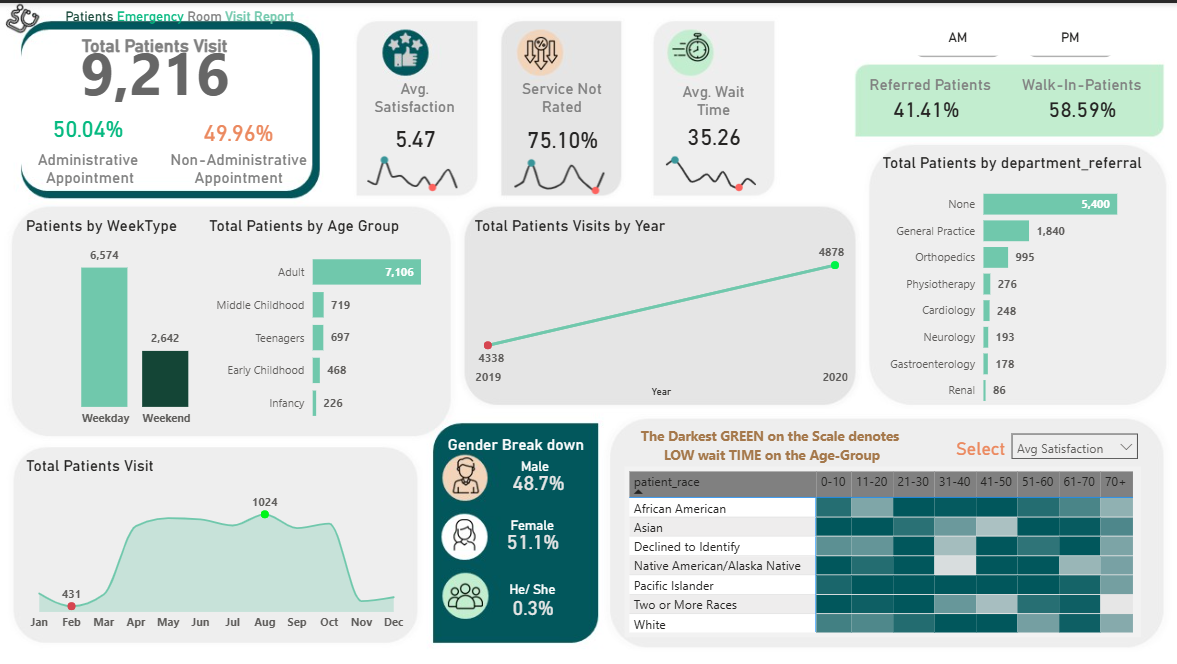

This screenshot's page, from the dashboard's own definition file:
{"tool":"powerbi","page":{"name":"Page 1","canvas":[1280,720],"ordinal":0},"visuals":[{"type":"card","fields":{"Values":["Calculation.Total Patients"]},"box":[73.3,28.9,191.1,86.7],"z":0},{"type":"card","fields":{"Values":["Calculation.% Adminstrative Schedule"]},"box":[48,115,94,40],"z":1000},{"type":"card","fields":{"Values":["Calculation.% None - Adminstrative Schedule"]},"box":[202,115,115,48],"z":2000},{"type":"pivotTable","fields":{"Values":["Calculation.Average Satisfaction Score"],"Rows":["Patients Dataset.patient_race"],"Columns":["Patients Dataset.Age Buckets"]},"box":[677.8,503.3,560,185.6],"z":3000},{"type":"slicer","fields":{"Values":["Parameter.Parameter"]},"box":[1088.9,456.7,156.7,45.6],"z":4000},{"type":"clusteredBarChart","fields":{"Category":["Patients Dataset.Age Group"],"Y":["Calculation.Total Patients"]},"box":[222.2,231.1,273.3,236.7],"z":5000},{"type":"areaChart","title":"Total Patients Visit","fields":{"Category":["Date.Month"],"Y":["Calculation.Total Patients","Calculation.Values Max Point (Month)"]},"box":[24.4,491.1,422.2,197.8],"z":6000},{"type":"advancedSlicerVisual","fields":{"Values":["Patients Dataset.Moment"]},"box":[983.3,10,234.4,54.4],"z":7000},{"type":"lineChart","title":"Total Patients Visits by Year","fields":{"Category":["Date.Year"],"Y":["Calculation.Total Patients","Calculation.Values Max Point (Year)"]},"box":[510,231.1,414.4,201.1],"z":8000},{"type":"clusteredBarChart","fields":{"Y":["Calculation.Total Patients"],"Category":["Patients Dataset.department_referral"]},"box":[953.3,163.3,298.9,285.6],"z":9000},{"type":"card","fields":{"Values":["Calculation.% Referred Patients"]},"box":[953.3,90,104.4,51.1],"z":10000},{"type":"card","fields":{"Values":["Calculation.% Un Referred Patients"]},"box":[1111.1,90,126.7,51.1],"z":11000},{"type":"card","fields":{"Values":["Calculation.HitMap Caption"]},"box":[660,444.4,354.4,70],"z":12000},{"type":"textbox","box":[30,155,139,55],"z":13000},{"type":"textbox","box":[180,155,159,55],"z":14000},{"type":"card","title":"Avg. Satisfaction","fields":{"Values":["Calculation.Average Satisfaction Score"]},"box":[401.1,83.3,97.8,88.9],"z":15000},{"type":"card","title":"Service Not Rated","fields":{"Values":["Calculation.% No Rating"]},"box":[544.4,82.2,131.1,90],"z":16000},{"type":"card","title":"Avg. Wait Time","fields":{"Values":["Calculation.Average Wait Time"]},"box":[720,86.7,108.9,77.8],"z":17000},{"type":"clusteredColumnChart","title":"Patients by WeekType","fields":{"Y":["Calculation.Total Patients"],"Category":["Date.WeekType"]},"box":[24.4,231.1,247.8,236.7],"z":18000},{"type":"card","fields":{"Values":["Calculation.% Female Visit"]},"box":[547.8,503.3,73.3,34.4],"z":19000},{"type":"card","fields":{"Values":["Calculation.% Unknown"]},"box":[537.8,635.6,81.1,38.9],"z":20000},{"type":"card","fields":{"Values":["Calculation.% Male Visit"]},"box":[542.2,565.6,73.3,34.4],"z":21000},{"type":"textbox","box":[73.3,28.9,191.1,54.4],"z":22000},{"type":"PBI_CV_25997FEB_F466_44FA_B562_AC4063283C4C","fields":{"axis":["Date.Month"],"measure":["Calculation.Average Satisfaction Score"]},"box":[382.2,153.3,135.6,57.8],"z":23000},{"type":"PBI_CV_25997FEB_F466_44FA_B562_AC4063283C4C","fields":{"axis":["Date.Month"],"measure":["Calculation.% No Rating"]},"box":[542.2,155.6,135.6,57.8],"z":24000},{"type":"PBI_CV_25997FEB_F466_44FA_B562_AC4063283C4C","fields":{"axis":["Date.Month"],"measure":["Calculation.Average Wait Time"]},"box":[706.7,153.3,135.6,57.8],"z":25000},{"type":"textbox","box":[465.6,463.3,191.1,54.4],"z":26000},{"type":"textbox","box":[555.6,487.8,50,27.8],"z":27000},{"type":"textbox","box":[543.3,551.1,70,27.8],"z":28000},{"type":"textbox","box":[543.3,621.1,70,27.8],"z":29000},{"type":"textbox","box":[1032.2,466.7,90,35.6],"z":30000},{"type":"textbox","box":[30,0,333.3,28.9],"z":31000},{"type":"textbox","box":[930,73.3,158.9,54.4],"z":32000},{"type":"textbox","box":[1094.4,73.3,158.9,54.4],"z":33000}]}

Visuals, with their boxes in screenshot pixels (x1, y1, x2, y2), scaled from the page's 1280x720 canvas onto the 1177x664 screenshot:
card - Calculation.Total Patients: [67,27,243,107]
card - Calculation.% Adminstrative Schedule: [44,106,131,143]
card - Calculation.% None - Adminstrative Schedule: [186,106,291,150]
pivotTable - Calculation.Average Satisfaction Score x Patients Dataset.patient_race: [623,464,1138,635]
slicer - Parameter.Parameter: [1001,421,1145,463]
clusteredBarChart - Patients Dataset.Age Group x Calculation.Total Patients: [204,213,456,431]
"Total Patients Visit" areaChart: [22,453,411,635]
advancedSlicerVisual - Patients Dataset.Moment: [904,9,1120,59]
"Total Patients Visits by Year" lineChart: [469,213,850,399]
clusteredBarChart - Calculation.Total Patients x Patients Dataset.department_referral: [877,151,1151,414]
card - Calculation.% Referred Patients: [877,83,973,130]
card - Calculation.% Un Referred Patients: [1022,83,1138,130]
card - Calculation.HitMap Caption: [607,410,933,474]
textbox: [28,143,155,194]
textbox: [166,143,312,194]
"Avg. Satisfaction" card: [369,77,459,159]
"Service Not Rated" card: [501,76,621,159]
"Avg. Wait Time" card: [662,80,762,152]
"Patients by WeekType" clusteredColumnChart: [22,213,250,431]
card - Calculation.% Female Visit: [504,464,571,496]
card - Calculation.% Unknown: [495,586,569,622]
card - Calculation.% Male Visit: [499,522,566,553]
textbox: [67,27,243,77]
PBI_CV_25997FEB_F466_44FA_B562_AC4063283C4C - Date.Month x Calculation.Average Satisfaction Score: [351,141,476,195]
PBI_CV_25997FEB_F466_44FA_B562_AC4063283C4C - Date.Month x Calculation.% No Rating: [499,143,623,197]
PBI_CV_25997FEB_F466_44FA_B562_AC4063283C4C - Date.Month x Calculation.Average Wait Time: [650,141,775,195]
textbox: [428,427,604,477]
textbox: [511,450,557,475]
textbox: [500,508,564,534]
textbox: [500,573,564,598]
textbox: [949,430,1032,463]
textbox: [28,0,334,27]
textbox: [855,68,1001,118]
textbox: [1006,68,1152,118]
